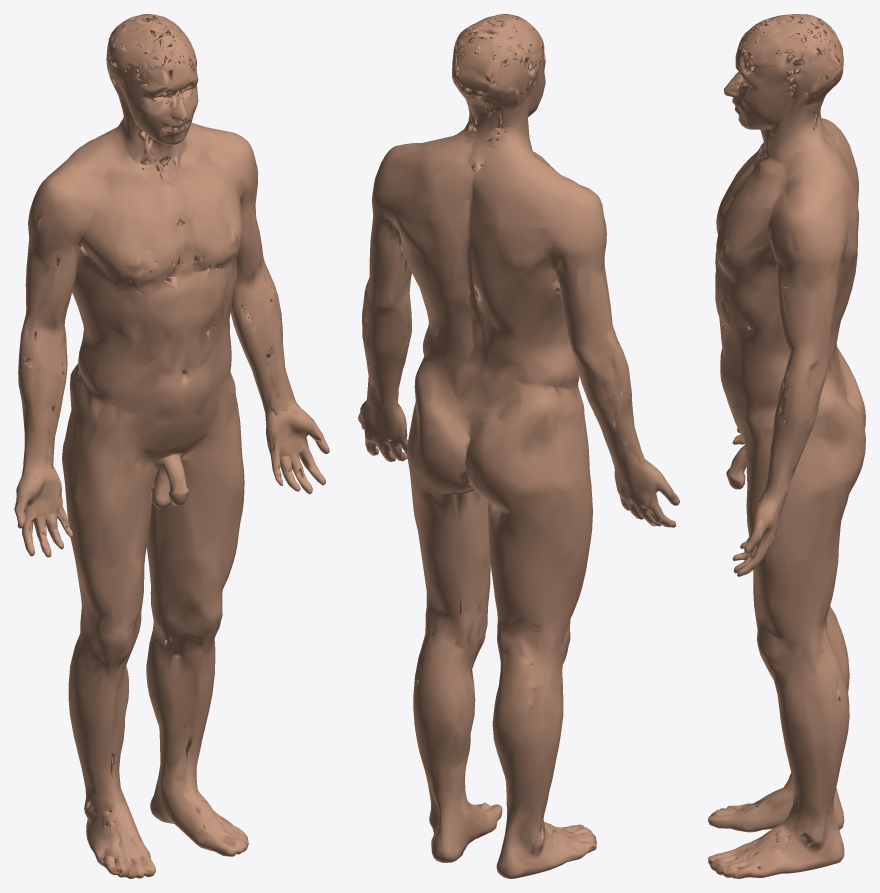
File: skin.glb
3 views of the same model, side by side, from view 1: azimuth 30°, elevation 25°; view 2: azimuth 150°, elevation 25°; view 3: azimuth 270°, elevation 25° (orthographic). The views are drawn at different scales.
Parts seen in each view (by area): view 1: Skin surface (FMA7163); view 2: Skin surface (FMA7163); view 3: Skin surface (FMA7163).
Boxes of the visible parts, box(x1,y1,x2,y2) form: Skin surface (FMA7163): box(14, 14, 329, 878); Skin surface (FMA7163): box(358, 14, 679, 878); Skin surface (FMA7163): box(708, 14, 865, 878).
Bounding box in the file's own units: 0.6571 × 1.65 × 0.2854.
